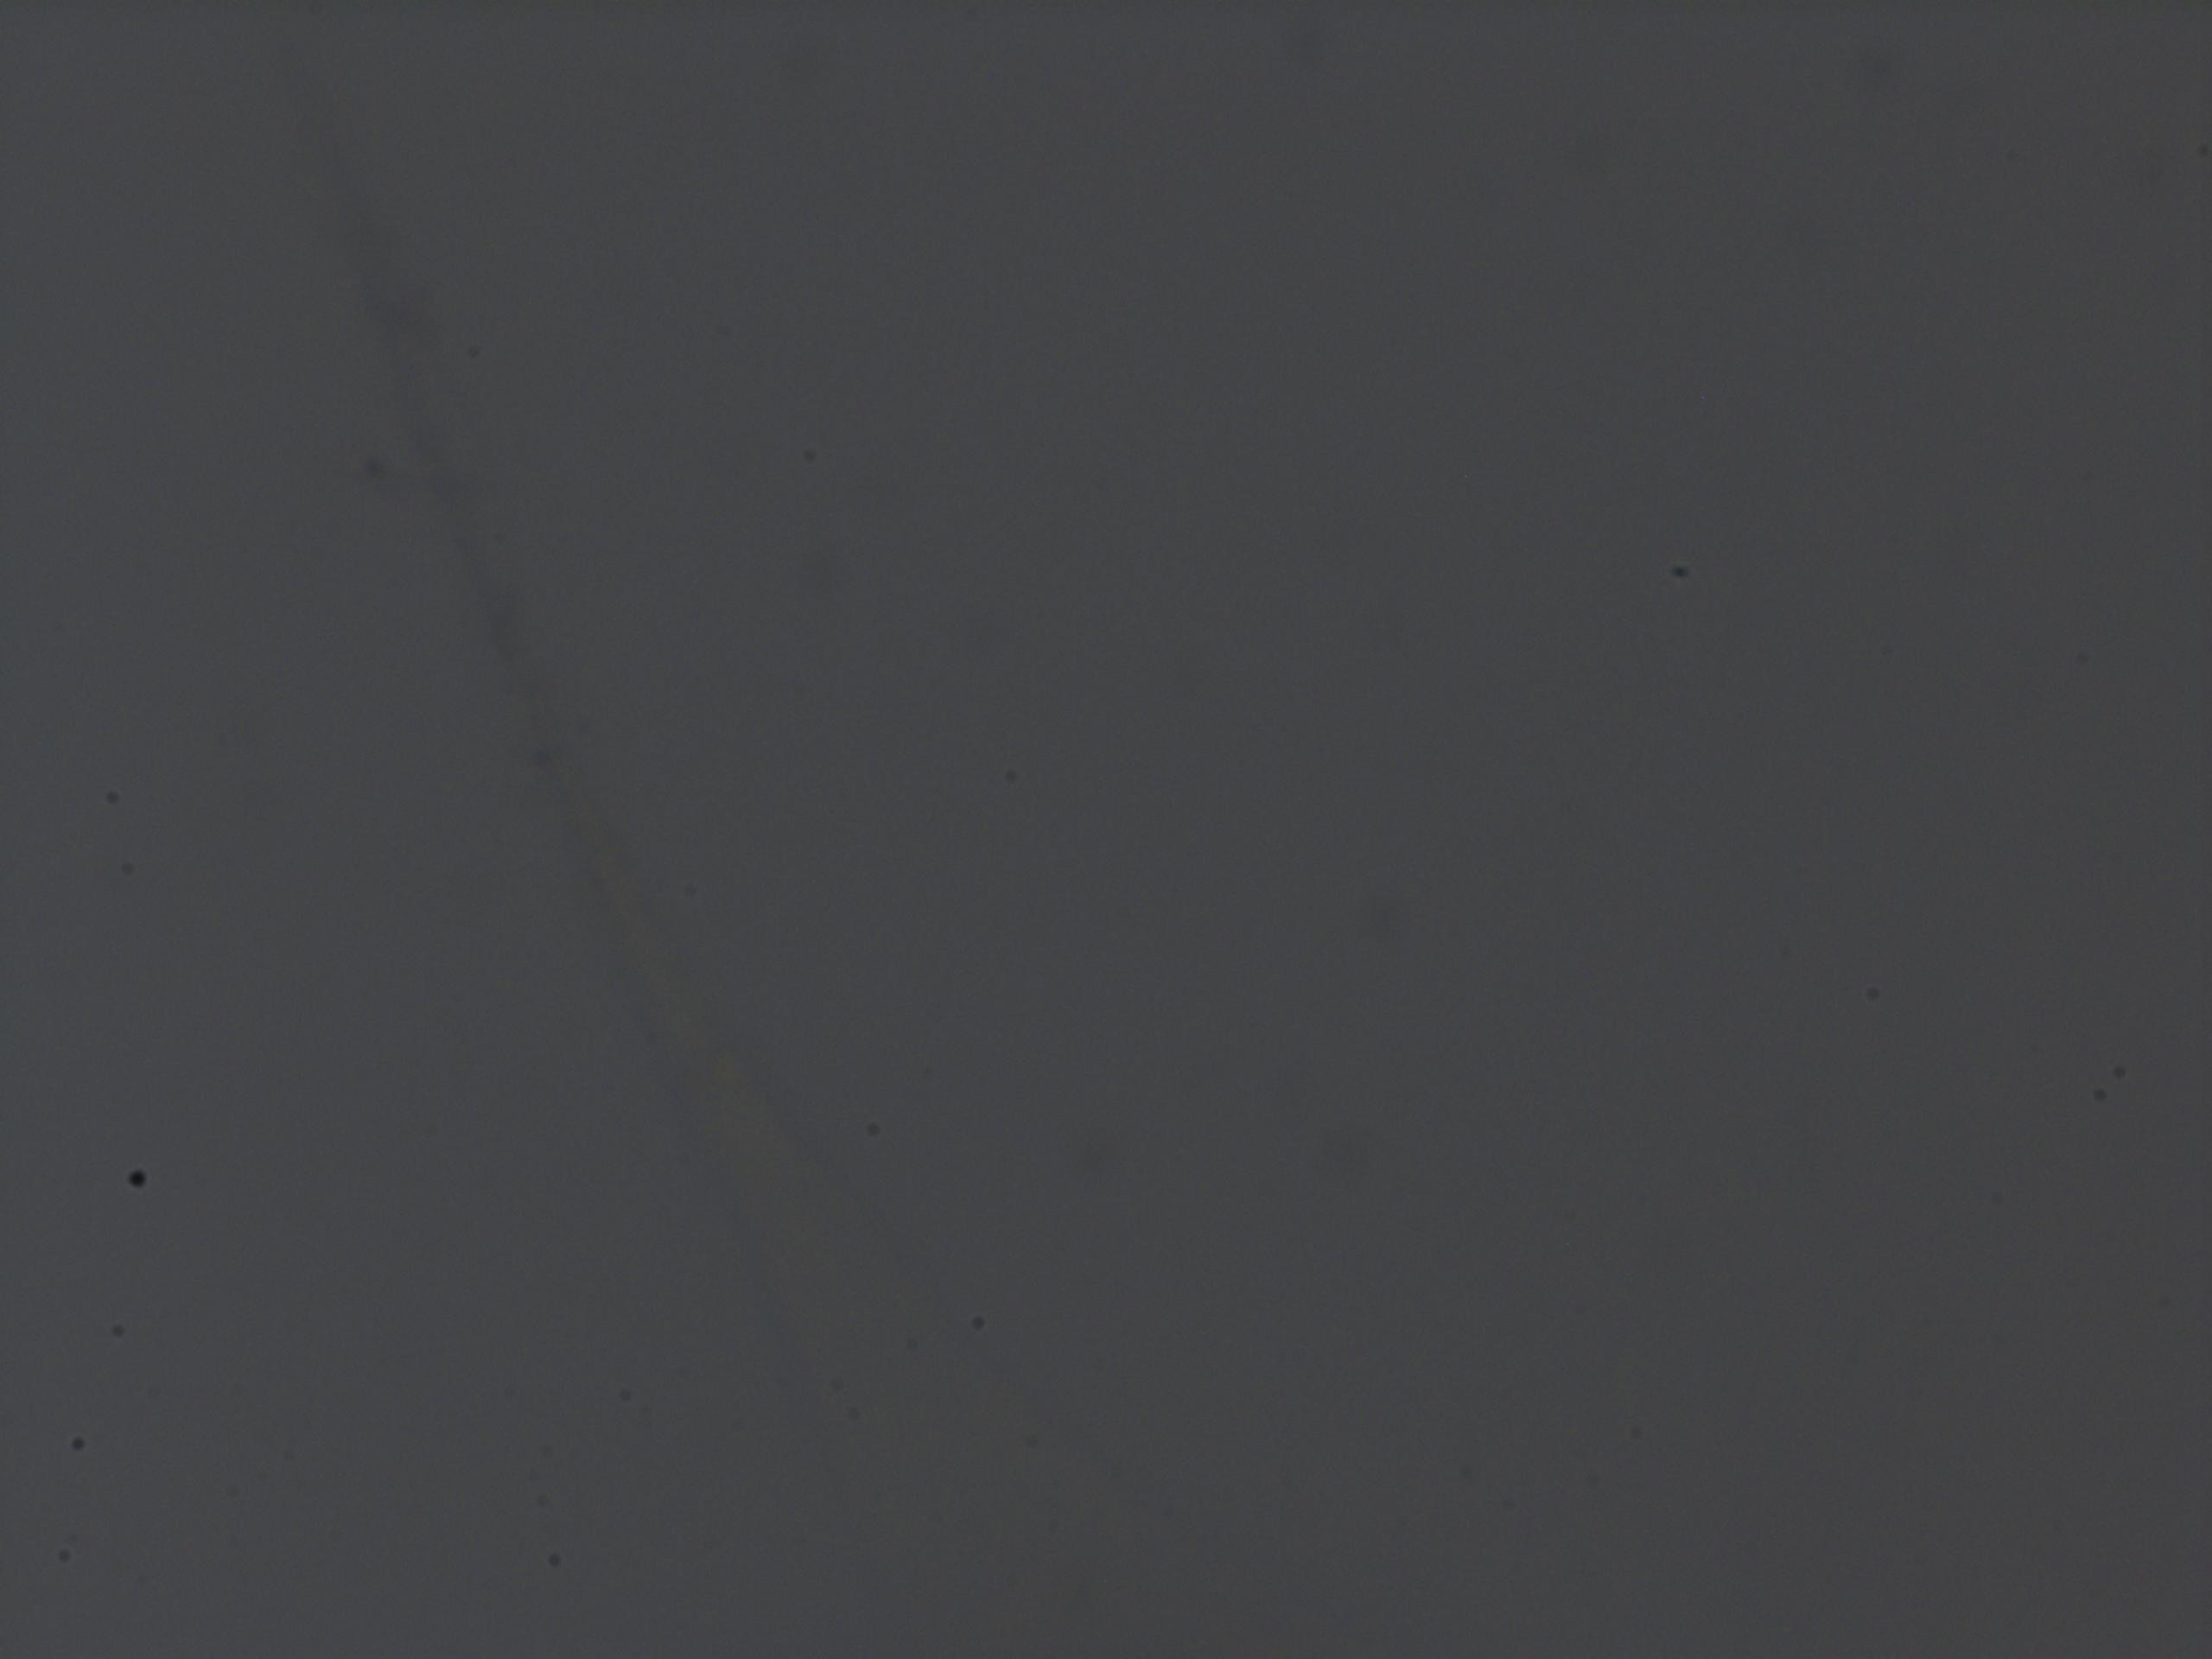filament: (263, 0, 1214, 1659)
